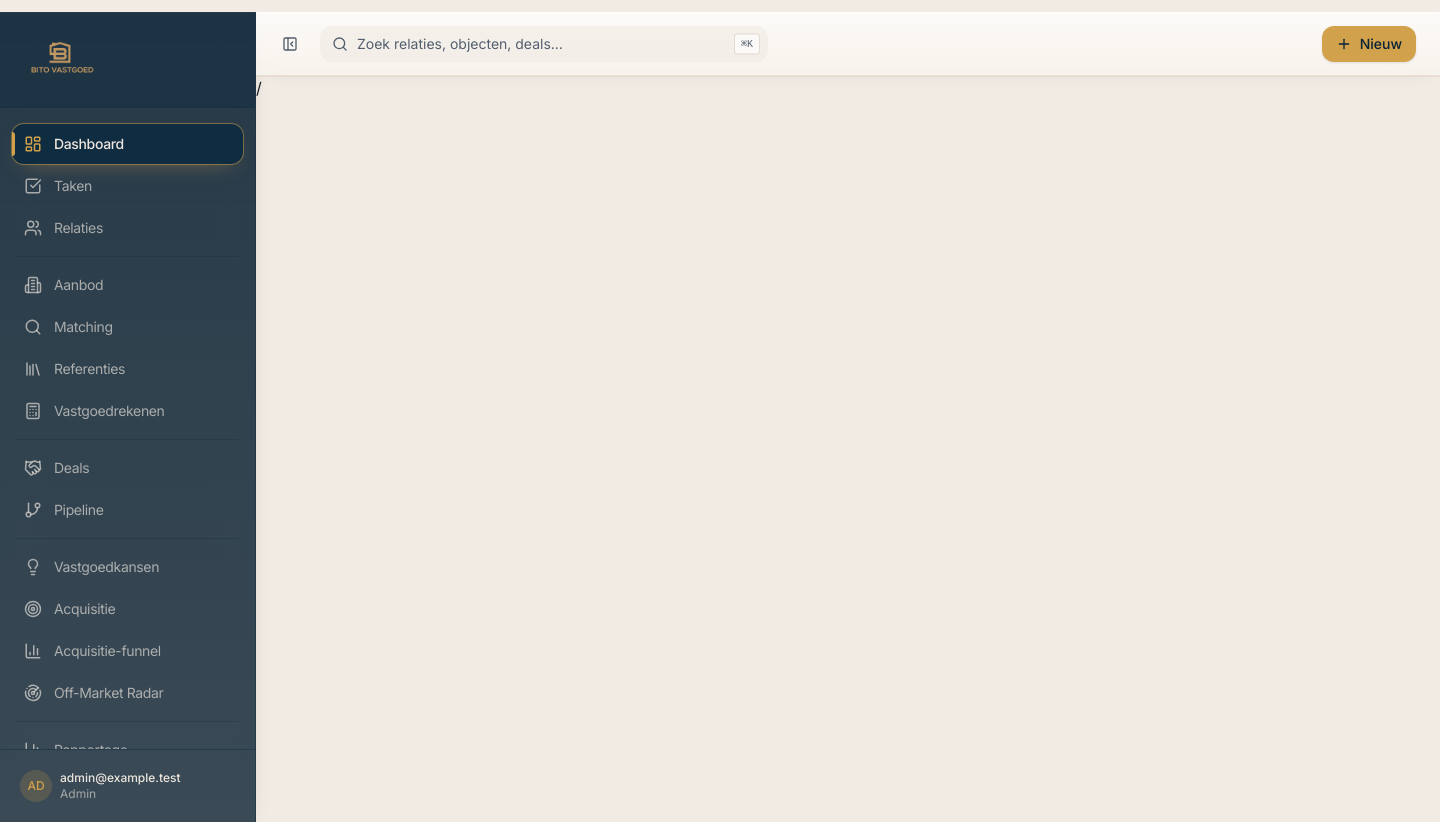
Test case: Mobiele drawer — Gebruikersbeheer › navigeert via menu-link naar /admin#gebruikersbeheer met juiste onClick-binding
Earlier steps of the test are not shown.
Step 1. Click the button "AD admin@example.test Admin" → point(128, 786), box [12,762,243,810]
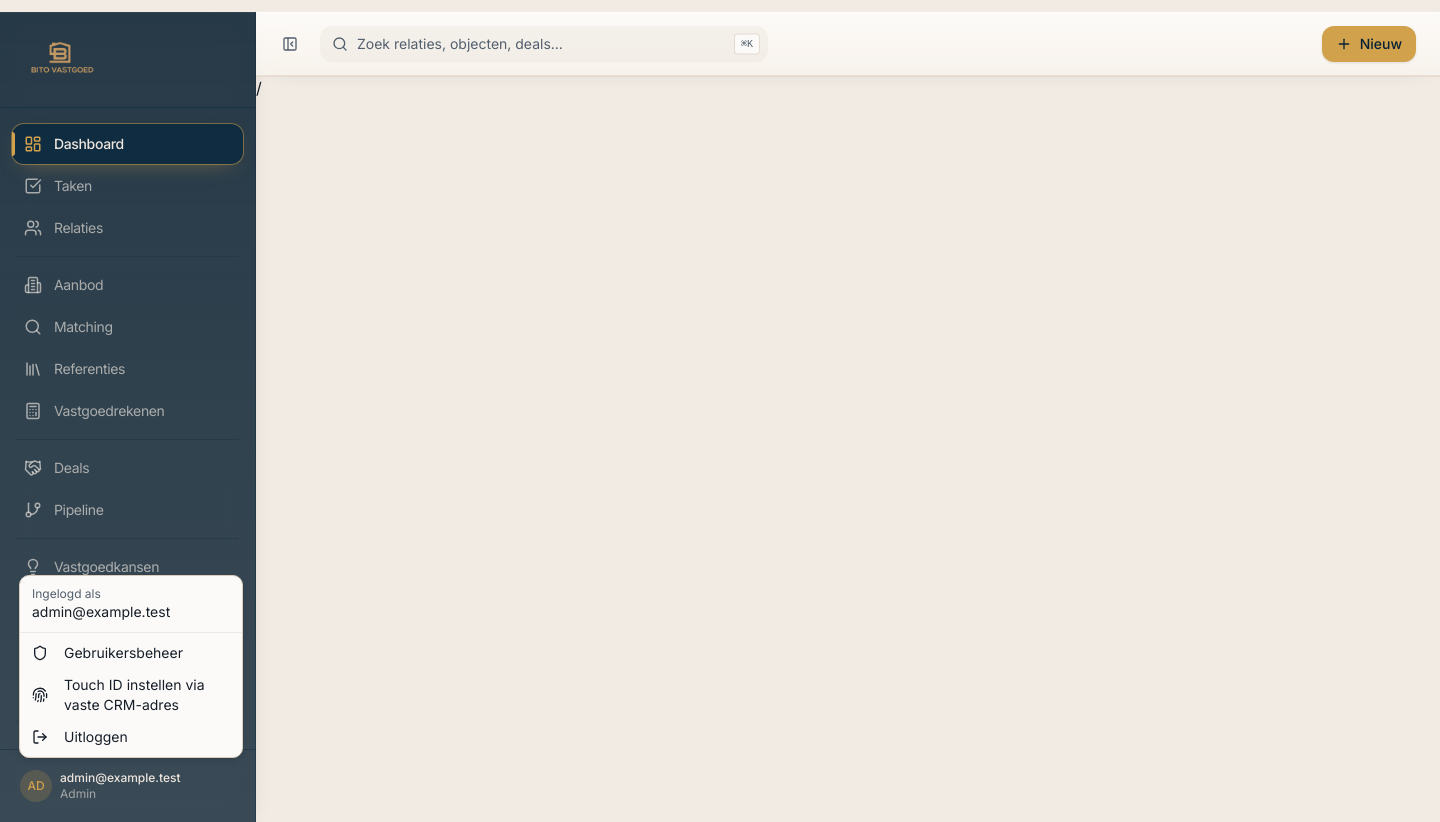
Step 2. Click the menu item with test id "menu-gebruikersbeheer" → point(107, 652), box [32,644,183,661]
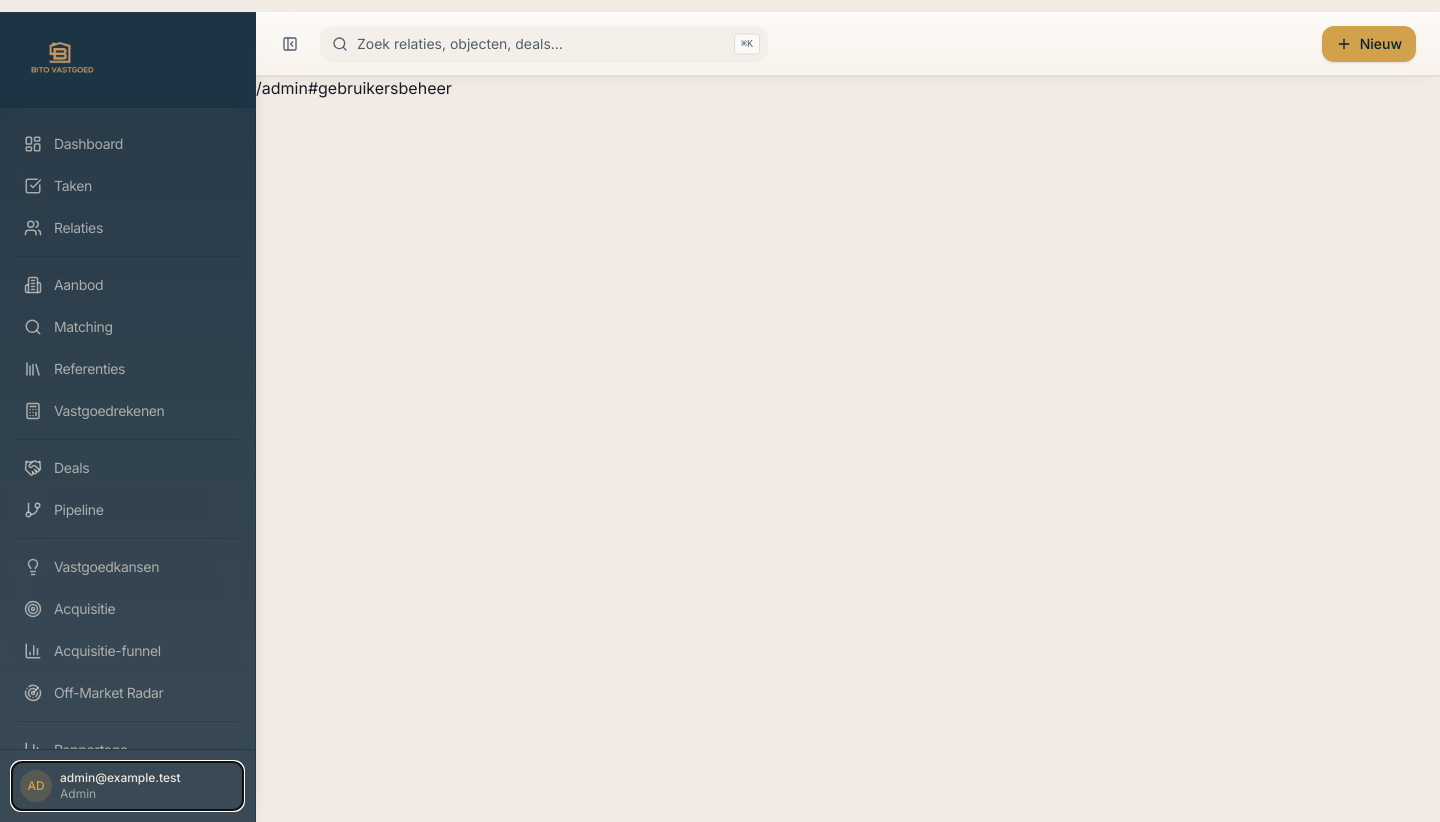
Result: the text with test id "loc" reads "/admin#gebruikersbeheer" at [256,78,452,98]
